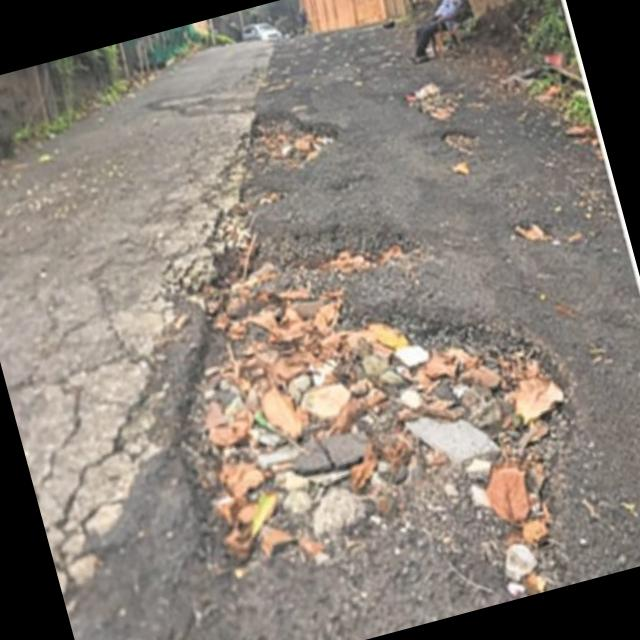Potholes: (122, 134, 626, 640), (229, 75, 374, 191), (433, 110, 492, 172)
